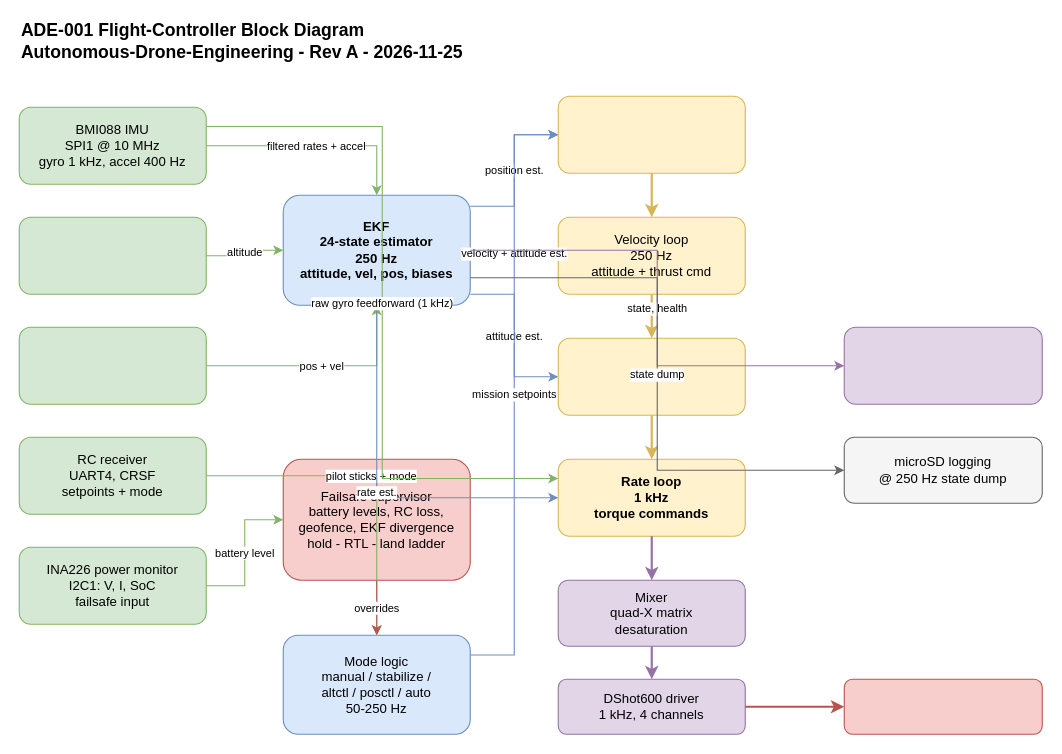
Image size: 1062x754. Some labels were removed from this diagram. Here are the shapes that lost their labels. From the top down, the centre of each, then its label:
At [651,134]: "Position loop 50 Hz vel setpoints".
At [112,255]: "BMP390 baro I2C1 @ 400 kHz 50 Hz pressure".
At [112,365]: "NEO-M9N GNSS USART1, UBX 5 Hz pos/vel".
At [651,376]: "Attitude loop 500 Hz rate setpoints".
At [942,365]: "Telemetry link MAVLink v2 status + commands".
At [942,706]: "ESC + motors M1-M4".
